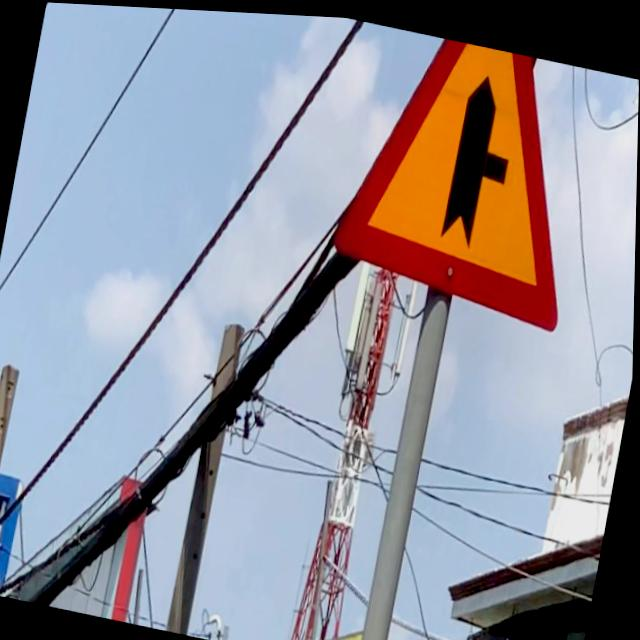Giao nhau voi duong khong uu tien ben phai: (321, 17, 607, 338)
